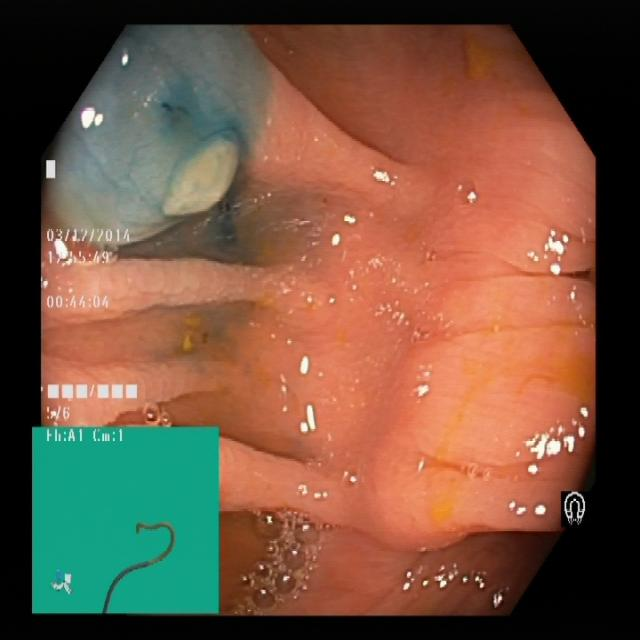dyed-lifted-polyps: (145, 114, 255, 244)
